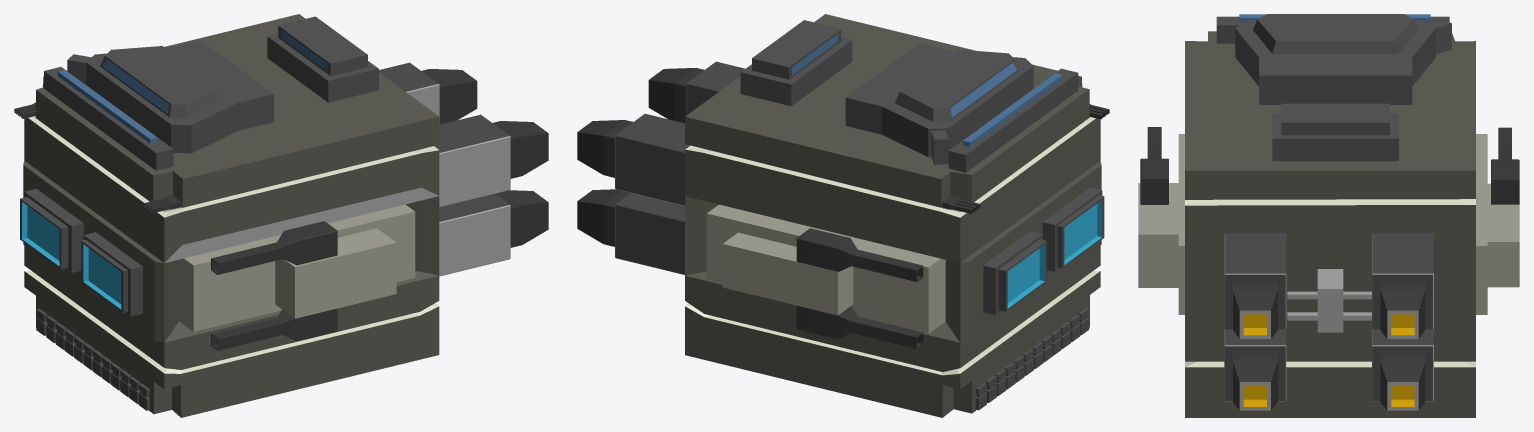
Rendered from Tank_Ship.fbx.
3 renders of one model, left to right at view 1: azimuth 30°, elevation 25°; view 2: azimuth 150°, elevation 25°; view 3: azimuth 270°, elevation 25°, orthographic. The views are drawn at different scales.
Parts seen in each view (by area): view 1: Tank_Ship; view 2: Tank_Ship; view 3: Tank_Ship.
Boxes of the visible parts, bbox=[...] form: Tank_Ship: bbox=[14, 14, 548, 417]; Tank_Ship: bbox=[577, 14, 1109, 417]; Tank_Ship: bbox=[1138, 14, 1519, 417].
Size of the model in its own units: 178 by 109 by 130.
